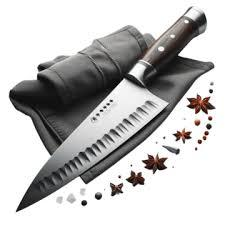Knife: (15, 5, 208, 212)
